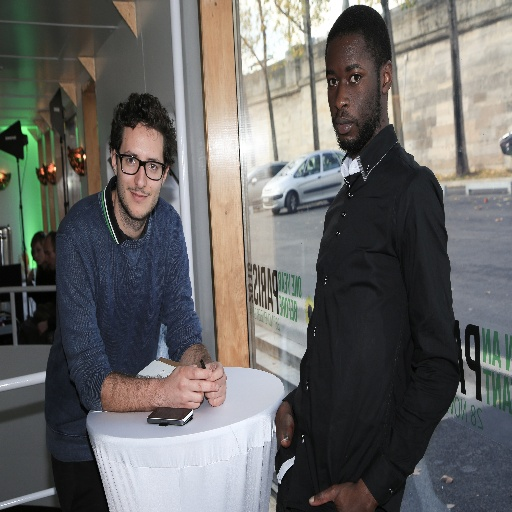hand: (138, 357, 229, 424), (308, 482, 375, 511), (201, 358, 226, 406), (273, 400, 294, 448), (36, 321, 46, 336), (28, 267, 35, 282)
